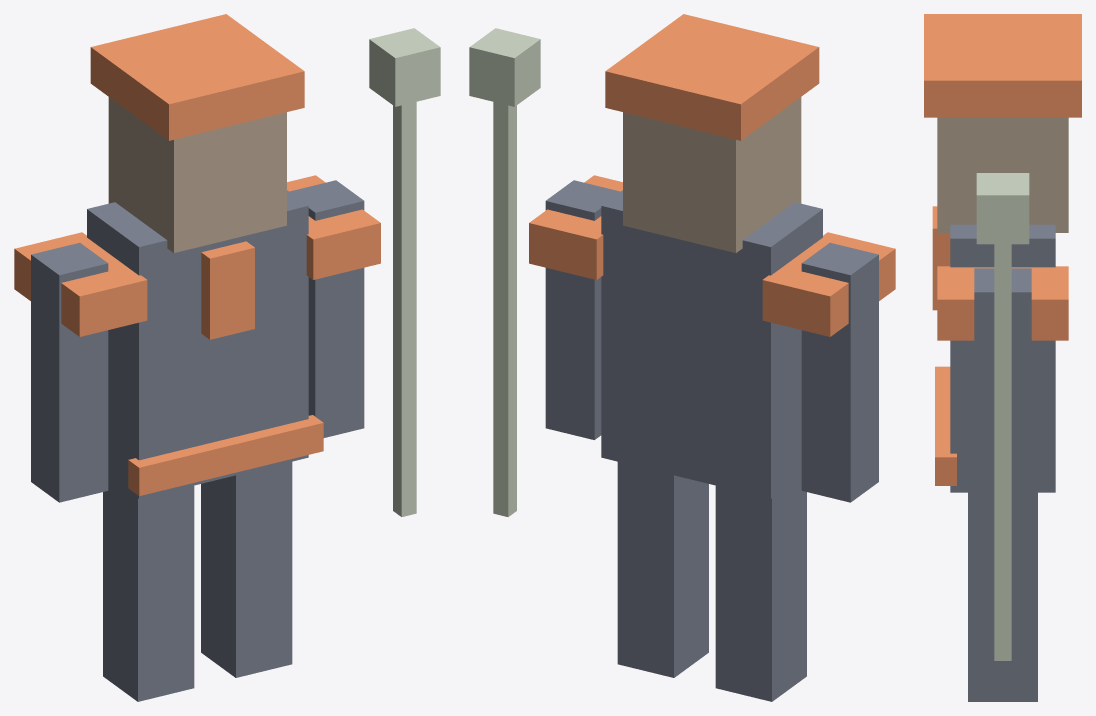
Rendered from 19_eryk_voxmere_cartographer_near_surface.glb.
3 renders of one model, left to right at view 1: azimuth 30°, elevation 25°; view 2: azimuth 150°, elevation 25°; view 3: azimuth 270°, elevation 25°, orthographic.
Visible parts, largest first — view 1: Eryk Voxmere, Cartographer near Surface; view 2: Eryk Voxmere, Cartographer near Surface; view 3: Eryk Voxmere, Cartographer near Surface.
Part boxes in pixels (x1,y1,x2,y2): Eryk Voxmere, Cartographer near Surface: (14, 14, 440, 701); Eryk Voxmere, Cartographer near Surface: (469, 14, 895, 701); Eryk Voxmere, Cartographer near Surface: (924, 14, 1081, 701).
Size of the model in its own units: 1.05 by 1.61 by 0.3738.
